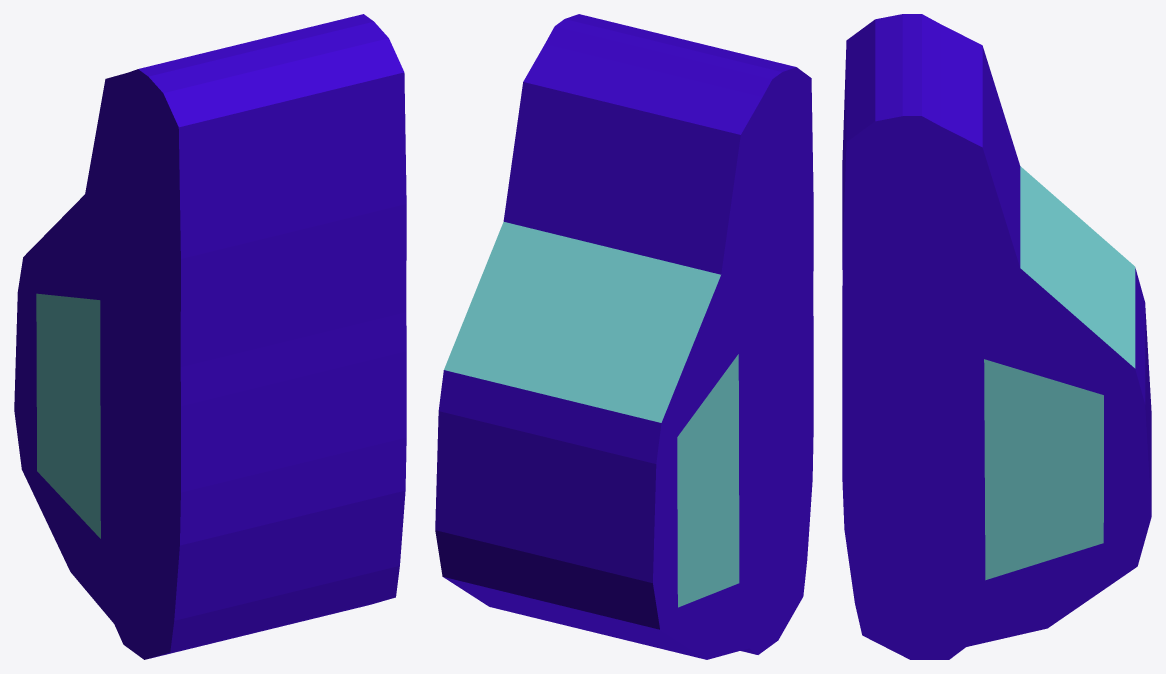
The model's file is ExportedBlenderFBXFile.fbx.
3 views of the same model, side by side, from view 1: azimuth 30°, elevation 25°; view 2: azimuth 150°, elevation 25°; view 3: azimuth 270°, elevation 25° (orthographic). The views are drawn at different scales.
Visible parts, largest first — view 1: Cube; view 2: Cube; view 3: Cube.
Part boxes in pixels (bbox=[...]): Cube: bbox=[14, 14, 406, 659]; Cube: bbox=[435, 14, 813, 659]; Cube: bbox=[842, 14, 1151, 659].
Bounding box in the file's own units: 1.29 × 3.17 × 1.63.
